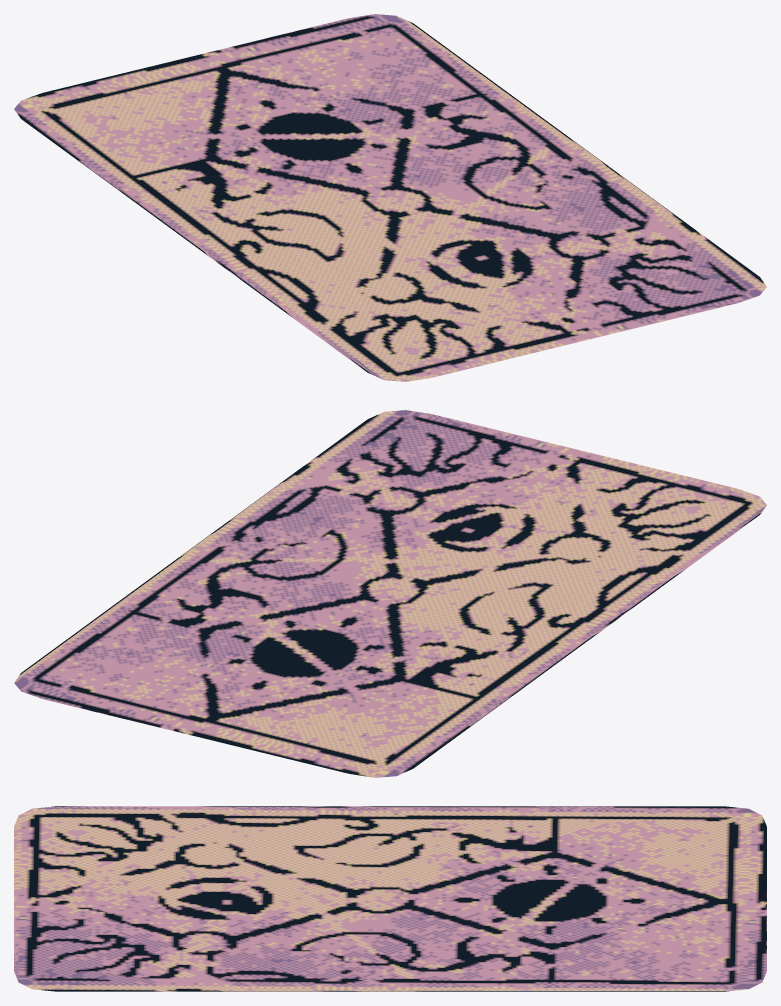
The model's file is singlecard.glb.
3 renders of one model, top to bottom at view 1: azimuth 30°, elevation 25°; view 2: azimuth 150°, elevation 25°; view 3: azimuth 270°, elevation 25°, orthographic. The views are drawn at different scales.
Visible parts, largest first — view 1: Two of Spades_01 - Default_0.001; view 2: Two of Spades_01 - Default_0.001; view 3: Two of Spades_01 - Default_0.001.
Boxes of the visible parts, x1,y1,x2,y2 form: Two of Spades_01 - Default_0.001: (14, 14, 766, 381); Two of Spades_01 - Default_0.001: (14, 410, 766, 777); Two of Spades_01 - Default_0.001: (14, 806, 766, 991).
Size of the model in its own units: 44.93 by 1.73e-14 by 77.22.
1 material, 1 textured.
